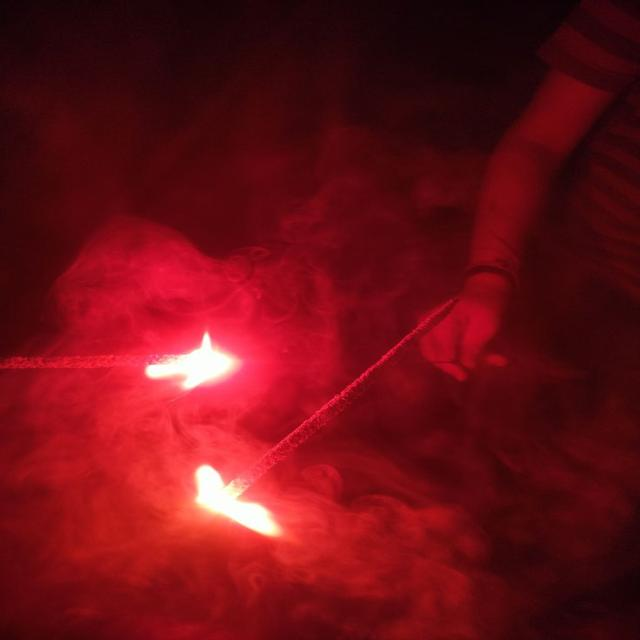fire: (194, 465, 278, 538), (143, 332, 242, 392)
